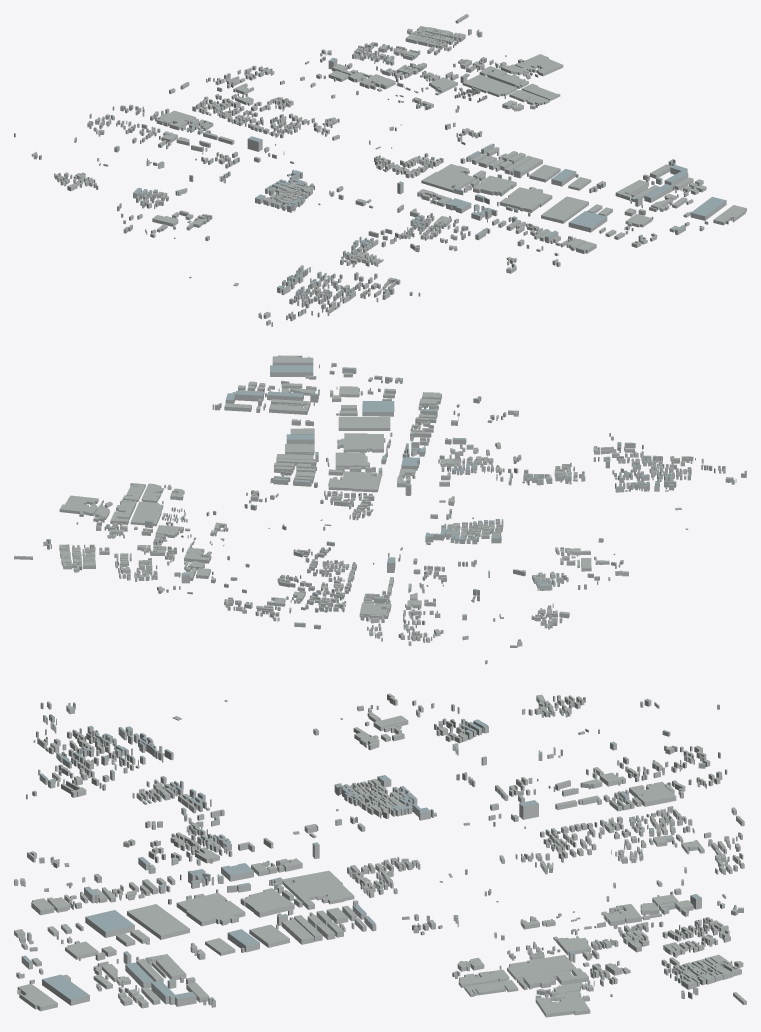
Rendered from far.glb.
The picture shows the model from 3 angles, top to bottom: view 1: azimuth 30°, elevation 25°; view 2: azimuth 150°, elevation 25°; view 3: azimuth 270°, elevation 25°; orthographic projection. The views are drawn at different scales.
Bounding box in the file's own units: 2166 × 42.6 × 2104.
